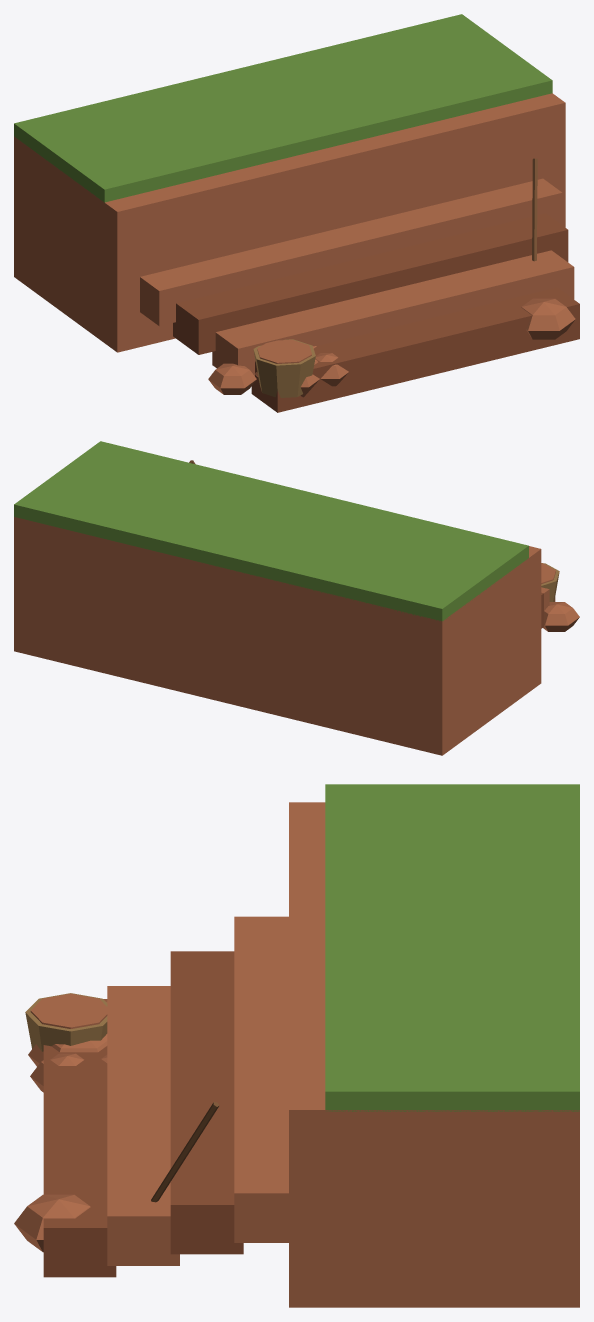
The model's file is clay_deposit.glb.
The picture shows the model from 3 angles, top to bottom: view 1: azimuth 30°, elevation 25°; view 2: azimuth 150°, elevation 25°; view 3: azimuth 270°, elevation 25°; orthographic projection. The views are drawn at different scales.
Parts seen in each view (by area): view 1: nature_deposit_clay; view 2: nature_deposit_clay; view 3: nature_deposit_clay.
Boxes of the visible parts, x1,y1,x2,y2 form: nature_deposit_clay: (14, 14, 579, 412); nature_deposit_clay: (14, 441, 579, 755); nature_deposit_clay: (14, 784, 579, 1307).
Size of the model in its own units: 4 by 1.43 by 3.11.
